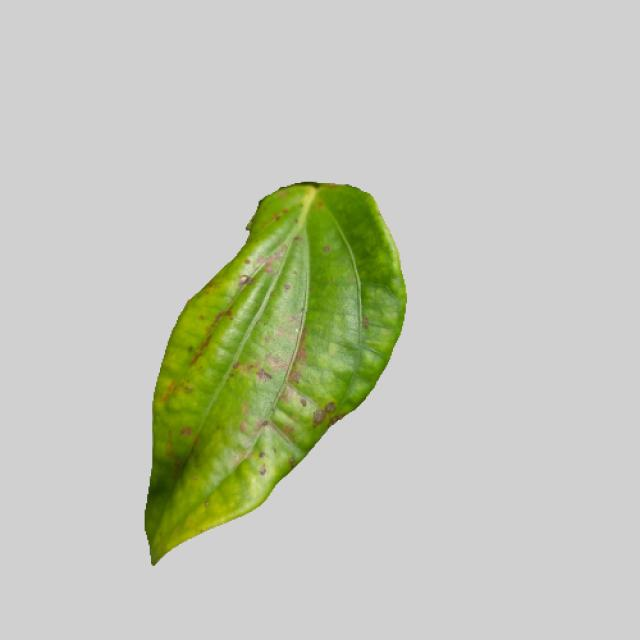yellow-mottle-virus: (123, 179, 422, 570)
